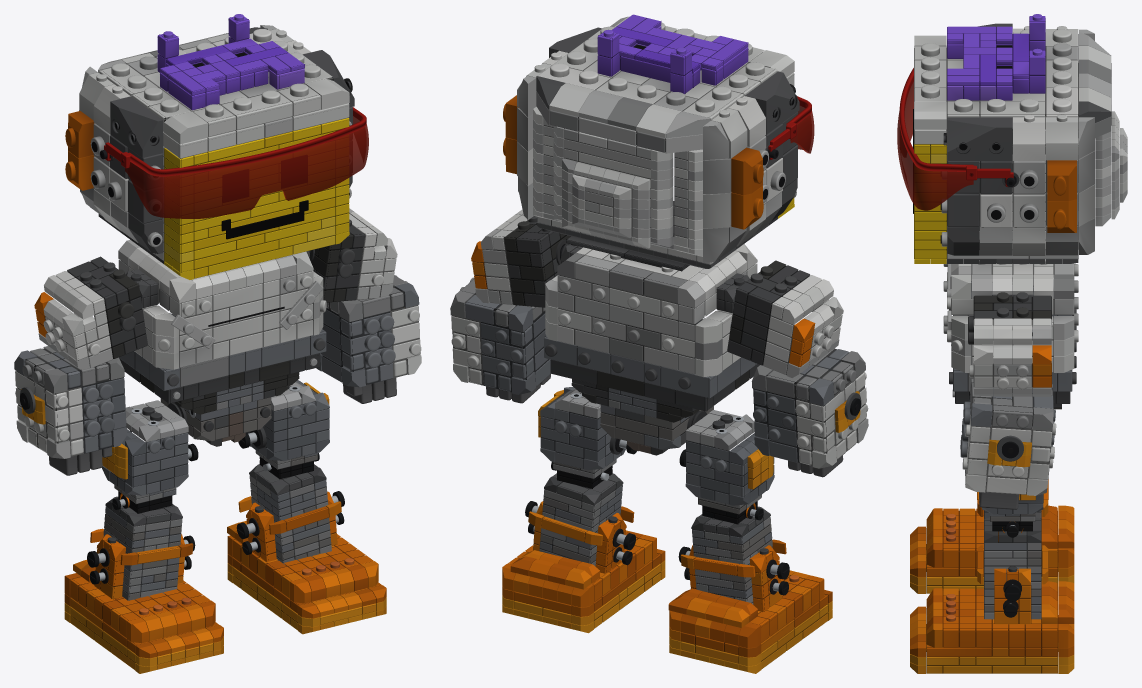
Rendered from pixel-mech.glb.
3 renders of one model, left to right at view 1: azimuth 30°, elevation 25°; view 2: azimuth 150°, elevation 25°; view 3: azimuth 270°, elevation 25°, orthographic. The views are drawn at different scales.
Parts seen in each view (by area): view 1: korpus_plastic, shapka_plastic, lico_plastic, bokL_plastic, rukaL_naruch_plastic, stupnyaL_plastic, ochki_linza, stupnyaR_plastic, rukaL_plastic, rukaR_naruch_plastic, nogaL_plastic, nogaR_plastic (+11 smaller); view 2: korpus_plastic, shapka_plastic, lico_plastic, bokL_plastic, rukaL_naruch_plastic, stupnyaL_plastic, rukaL_plastic, stupnyaR_plastic, rukaR_naruch_plastic, nogaL_plastic, rukaR_plastic, nogaR_plastic (+10 smaller); view 3: bokR_plastic, shapka_plastic, stupnyaR_plastic, korpus_plastic, rukaR_naruch_plastic, rukaR_plastic, stupnyaL_plastic, lico_plastic, nogaR_golen_plastic, ochki_linza, stupnyaR_manzhet_plastic, ochki_oprava (+4 smaller).
Boxes of the visible parts, x1,y1,x2,y2 form: korpus_plastic: [118, 239, 326, 414]; shapka_plastic: [98, 14, 349, 158]; lico_plastic: [98, 117, 349, 279]; bokL_plastic: [65, 66, 163, 253]; rukaL_naruch_plastic: [14, 346, 127, 475]; stupnyaL_plastic: [64, 560, 223, 673]; ochki_linza: [125, 116, 368, 218]; stupnyaR_plastic: [227, 521, 386, 634]; rukaL_plastic: [34, 256, 147, 369]; rukaR_naruch_plastic: [316, 275, 421, 403]; nogaL_plastic: [102, 400, 188, 513]; nogaR_plastic: [247, 380, 329, 479]; korpus_plastic: [544, 243, 759, 422]; shapka_plastic: [536, 14, 794, 153]; lico_plastic: [533, 106, 794, 271]; bokL_plastic: [703, 71, 799, 262]; rukaL_naruch_plastic: [751, 348, 868, 477]; stupnyaL_plastic: [668, 570, 832, 673]; rukaL_plastic: [727, 260, 843, 377]; stupnyaR_plastic: [502, 530, 665, 633]; rukaR_naruch_plastic: [450, 277, 550, 403]; nogaL_plastic: [685, 410, 774, 524]; rukaR_plastic: [471, 209, 570, 307]; nogaR_plastic: [538, 387, 625, 488]; bokR_plastic: [940, 114, 1094, 255]; shapka_plastic: [914, 14, 1111, 144]; stupnyaR_plastic: [910, 581, 1074, 673]; korpus_plastic: [943, 259, 1078, 409]; rukaR_naruch_plastic: [960, 378, 1056, 509]; rukaR_plastic: [968, 292, 1051, 396]; stupnyaL_plastic: [910, 505, 1074, 593]; lico_plastic: [914, 62, 1127, 263]; nogaR_golen_plastic: [984, 517, 1041, 619]; ochki_linza: [897, 81, 973, 210]; stupnyaR_manzhet_plastic: [977, 545, 1048, 624]; ochki_oprava: [899, 68, 1013, 186].
Bounding box in the file's own units: 21.93 × 31.11 × 11.2.
